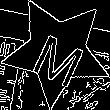M_NE: (26, 19, 88, 84)
